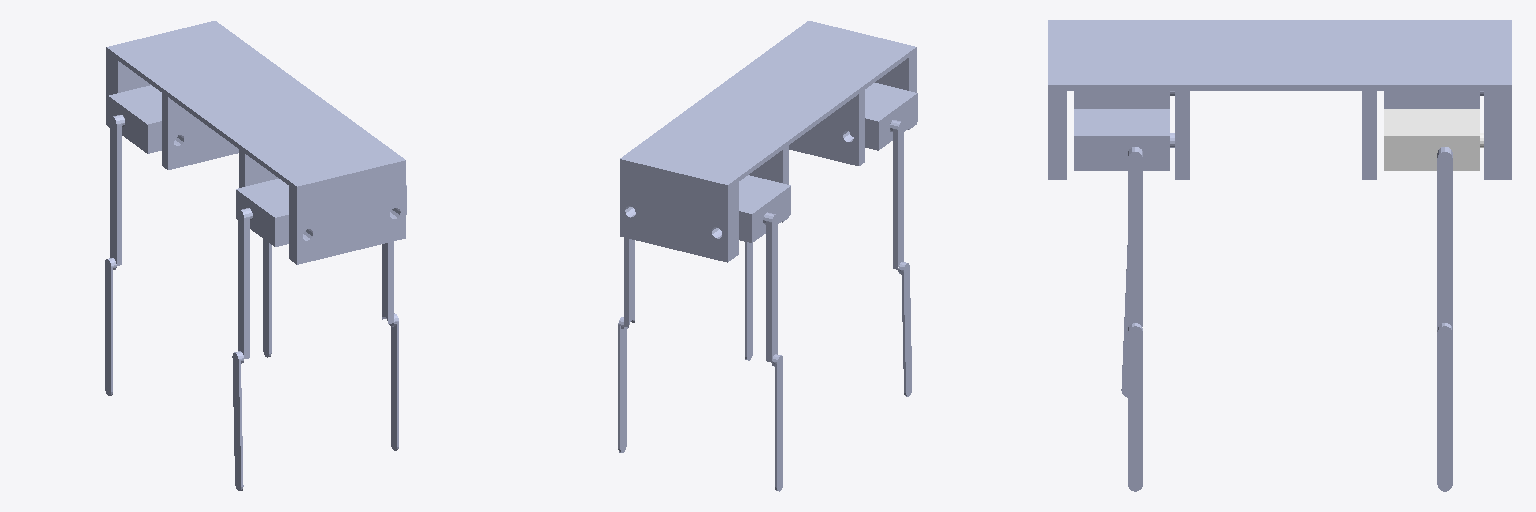
robot.urdf — assem_urdf.SLDASM:
<?xml version="1.0" encoding="utf-8"?>
<!-- This URDF was automatically created by SolidWorks to URDF Exporter! Originally created by [author] ([email redacted]) 
     Commit Version: 1.6.0-1-g15f4949  Build Version: 1.6.7594.29634
     For more information, please see http://wiki.ros.org/sw_urdf_exporter -->
<robot
  name="assem_urdf.SLDASM">
  <link
    name="base_link">
    <inertial>
      <origin
        xyz="3.9509E-17 0.16127 0.0079243"
        rpy="0 0 0" />
      <mass
        value="0.4453" />
      <inertia
        ixx="0.0055803"
        ixy="1.2165E-18"
        ixz="-4.5088E-20"
        iyy="0.00058228"
        iyz="4.2851E-05"
        izz="0.005728" />
    </inertial>
    <visual>
      <origin
        xyz="0 0 0"
        rpy="0 0 0" />
      <geometry>
        <mesh
          filename="package://assem_urdf.SLDASM/meshes/base_link.STL" />
      </geometry>
      <material
        name="">
        <color
          rgba="0.79216 0.81961 0.93333 1" />
      </material>
    </visual>
    <collision>
      <origin
        xyz="0 0 0"
        rpy="0 0 0" />
      <geometry>
        <mesh
          filename="package://assem_urdf.SLDASM/meshes/base_link.STL" />
      </geometry>
    </collision>
  </link>
  <link
    name="FR_Hip0_link">
    <inertial>
      <origin
        xyz="-0.00060544 6.9389E-18 -0.034287"
        rpy="0 0 0" />
      <mass
        value="0.067785" />
      <inertia
        ixx="2.6247E-05"
        ixy="-4.0036E-22"
        ixz="5.961E-08"
        iyy="3.2333E-05"
        iyz="2.7045E-21"
        izz="1.3621E-05" />
    </inertial>
    <visual>
      <origin
        xyz="0 0 0"
        rpy="0 0 0" />
      <geometry>
        <mesh
          filename="package://assem_urdf.SLDASM/meshes/FR_Hip0_link.STL" />
      </geometry>
      <material
        name="">
        <color
          rgba="0.79216 0.81961 0.93333 1" />
      </material>
    </visual>
    <collision>
      <origin
        xyz="0 0 0"
        rpy="0 0 0" />
      <geometry>
        <mesh
          filename="package://assem_urdf.SLDASM/meshes/FR_Hip0_link.STL" />
      </geometry>
    </collision>
  </link>
  <joint
    name="FR_Hip0_joint"
    type="revolute">
    <origin
      xyz="-0.04 0.0825 -0.01025"
      rpy="1.5708 0 -3.1416" />
    <parent
      link="base_link" />
    <child
      link="FR_Hip0_link" />
    <axis
      xyz="0 0 1" />
    <limit
      lower="0"
      upper="0"
      effort="0"
      velocity="0" />
  </joint>
  <link
    name="FR_Hip1_link">
    <inertial>
      <origin
        xyz="-0.10072 0.02657 -0.018148"
        rpy="0 0 0" />
      <mass
        value="0.0064106" />
      <inertia
        ixx="1.1008E-06"
        ixy="1.0884E-06"
        ixz="-2.5725E-06"
        iyy="8.476E-06"
        iyz="3.699E-07"
        izz="7.7954E-06" />
    </inertial>
    <visual>
      <origin
        xyz="0 0 0"
        rpy="0 0 0" />
      <geometry>
        <mesh
          filename="package://assem_urdf.SLDASM/meshes/FR_Hip1_link.STL" />
      </geometry>
      <material
        name="">
        <color
          rgba="0.79216 0.81961 0.93333 1" />
      </material>
    </visual>
    <collision>
      <origin
        xyz="0 0 0"
        rpy="0 0 0" />
      <geometry>
        <mesh
          filename="package://assem_urdf.SLDASM/meshes/FR_Hip1_link.STL" />
      </geometry>
    </collision>
  </link>
  <joint
    name="FR_Hip1_joint"
    type="revolute">
    <origin
      xyz="0.01 0.048079 -0.038176"
      rpy="1.526 -0.12836 1.9075" />
    <parent
      link="FR_Hip0_link" />
    <child
      link="FR_Hip1_link" />
    <axis
      xyz="0.32763 0 -0.94481" />
    <limit
      lower="0"
      upper="0"
      effort="0"
      velocity="0" />
  </joint>
  <link
    name="FR_Hip2_link">
    <inertial>
      <origin
        xyz="0.0055236 -0.049448 0.0037719"
        rpy="0 0 0" />
      <mass
        value="0.0025827" />
      <inertia
        ixx="3.3013E-06"
        ixy="3.662E-07"
        ixz="-3.2537E-09"
        iyy="6.3909E-08"
        iyz="2.9127E-08"
        izz="3.3606E-06" />
    </inertial>
    <visual>
      <origin
        xyz="0 0 0"
        rpy="0 0 0" />
      <geometry>
        <mesh
          filename="package://assem_urdf.SLDASM/meshes/FR_Hip2_link.STL" />
      </geometry>
      <material
        name="">
        <color
          rgba="0.79216 0.81961 0.93333 1" />
      </material>
    </visual>
    <collision>
      <origin
        xyz="0 0 0"
        rpy="0 0 0" />
      <geometry>
        <mesh
          filename="package://assem_urdf.SLDASM/meshes/FR_Hip2_link.STL" />
      </geometry>
    </collision>
  </link>
  <joint
    name="FR_Hip2_joint"
    type="revolute">
    <origin
      xyz="-0.16506 0.035756 -0.037656"
      rpy="0.32702 0.068144 -1.7689" />
    <parent
      link="FR_Hip1_link" />
    <child
      link="FR_Hip2_link" />
    <axis
      xyz="0 0 -1" />
    <limit
      lower="0"
      upper="0"
      effort="0"
      velocity="0" />
  </joint>
  <link
    name="FL_Hip3_link">
    <inertial>
      <origin
        xyz="-0.00060544 5.2042E-18 -0.034287"
        rpy="0 0 0" />
      <mass
        value="0.067785" />
      <inertia
        ixx="2.6247E-05"
        ixy="-1.6025E-22"
        ixz="5.961E-08"
        iyy="3.2333E-05"
        iyz="-6.233E-22"
        izz="1.3621E-05" />
    </inertial>
    <visual>
      <origin
        xyz="0 0 0"
        rpy="0 0 0" />
      <geometry>
        <mesh
          filename="package://assem_urdf.SLDASM/meshes/FL_Hip3_link.STL" />
      </geometry>
      <material
        name="">
        <color
          rgba="0.79216 0.81961 0.93333 1" />
      </material>
    </visual>
    <collision>
      <origin
        xyz="0 0 0"
        rpy="0 0 0" />
      <geometry>
        <mesh
          filename="package://assem_urdf.SLDASM/meshes/FL_Hip3_link.STL" />
      </geometry>
    </collision>
  </link>
  <joint
    name="FL_Hip3_joint"
    type="revolute">
    <origin
      xyz="0.04 0.0825 -0.01025"
      rpy="-1.5708 0 0" />
    <parent
      link="base_link" />
    <child
      link="FL_Hip3_link" />
    <axis
      xyz="0 0 1" />
    <limit
      lower="0"
      upper="0"
      effort="0"
      velocity="0" />
  </joint>
  <link
    name="FL_Hip4_link">
    <inertial>
      <origin
        xyz="0.041114 0.020928 -0.0077205"
        rpy="0 0 0" />
      <mass
        value="0.0064106" />
      <inertia
        ixx="1.8319E-06"
        ixy="-3.4621E-06"
        ixz="4.6782E-08"
        iyy="6.8709E-06"
        iyz="2.3813E-08"
        izz="8.6695E-06" />
    </inertial>
    <visual>
      <origin
        xyz="0 0 0"
        rpy="0 0 0" />
      <geometry>
        <mesh
          filename="package://assem_urdf.SLDASM/meshes/FL_Hip4_link.STL" />
      </geometry>
      <material
        name="">
        <color
          rgba="0.79216 0.81961 0.93333 1" />
      </material>
    </visual>
    <collision>
      <origin
        xyz="0 0 0"
        rpy="0 0 0" />
      <geometry>
        <mesh
          filename="package://assem_urdf.SLDASM/meshes/FL_Hip4_link.STL" />
      </geometry>
    </collision>
  </link>
  <joint
    name="FL_Hip4_joint"
    type="revolute">
    <origin
      xyz="0.018132 0.0095637 -0.02555"
      rpy="-1.5708 -0.47085 1.5708" />
    <parent
      link="FL_Hip3_link" />
    <child
      link="FL_Hip4_link" />
    <axis
      xyz="0 0 1" />
    <limit
      lower="0"
      upper="0"
      effort="0"
      velocity="0" />
  </joint>
  <link
    name="FL_Hip5_link">
    <inertial>
      <origin
        xyz="0 -0.049755 -0.0037719"
        rpy="0 0 0" />
      <mass
        value="0.0025827" />
      <inertia
        ixx="3.3422E-06"
        ixy="-1.3183E-22"
        ixz="-1.7916E-24"
        iyy="2.3002E-08"
        iyz="-2.9308E-08"
        izz="3.3606E-06" />
    </inertial>
    <visual>
      <origin
        xyz="0 0 0"
        rpy="0 0 0" />
      <geometry>
        <mesh
          filename="package://assem_urdf.SLDASM/meshes/FL_Hip5_link.STL" />
      </geometry>
      <material
        name="">
        <color
          rgba="0.79216 0.81961 0.93333 1" />
      </material>
    </visual>
    <collision>
      <origin
        xyz="0 0 0"
        rpy="0 0 0" />
      <geometry>
        <mesh
          filename="package://assem_urdf.SLDASM/meshes/FL_Hip5_link.STL" />
      </geometry>
    </collision>
  </link>
  <joint
    name="FL_Hip5_joint"
    type="revolute">
    <origin
      xyz="0.10154 0.051686 -0.010368"
      rpy="0 0 2.0416" />
    <parent
      link="FL_Hip4_link" />
    <child
      link="FL_Hip5_link" />
    <axis
      xyz="0 0 1" />
    <limit
      lower="0"
      upper="0"
      effort="0"
      velocity="0" />
  </joint>
  <link
    name="RR_Hip6_link">
    <inertial>
      <origin
        xyz="-0.00060544 1.2143E-17 -0.034287"
        rpy="0 0 0" />
      <mass
        value="0.067785" />
      <inertia
        ixx="2.6247E-05"
        ixy="7.5985E-23"
        ixz="5.961E-08"
        iyy="3.2333E-05"
        iyz="3.1781E-22"
        izz="1.3621E-05" />
    </inertial>
    <visual>
      <origin
        xyz="0 0 0"
        rpy="0 0 0" />
      <geometry>
        <mesh
          filename="package://assem_urdf.SLDASM/meshes/RR_Hip6_link.STL" />
      </geometry>
      <material
        name="">
        <color
          rgba="0.79216 0.81961 0.93333 1" />
      </material>
    </visual>
    <collision>
      <origin
        xyz="0 0 0"
        rpy="0 0 0" />
      <geometry>
        <mesh
          filename="package://assem_urdf.SLDASM/meshes/RR_Hip6_link.STL" />
      </geometry>
    </collision>
  </link>
  <joint
    name="RR_Hip6_joint"
    type="revolute">
    <origin
      xyz="-0.04 0.285 -0.01025"
      rpy="1.5708 0 3.1416" />
    <parent
      link="base_link" />
    <child
      link="RR_Hip6_link" />
    <axis
      xyz="0 0 1" />
    <limit
      lower="0"
      upper="0"
      effort="0"
      velocity="0" />
  </joint>
  <link
    name="RR_Hip7_link">
    <inertial>
      <origin
        xyz="0.034716961087133 0.0330827435607052 0.00118351028798536"
        rpy="0 0 0" />
      <mass
        value="0.00641061944901924" />
      <inertia
        ixx="6.02291683364987E-06"
        ixy="-3.9420806956738E-06"
        ixz="-2.898185097182E-08"
        iyy="2.679914803784E-06"
        iyz="-4.37682660936721E-08"
        izz="8.66948634202206E-06" />
    </inertial>
    <visual>
      <origin
        xyz="0 0 0"
        rpy="0 0 0" />
      <geometry>
        <mesh
          filename="package://assem_urdf.SLDASM/meshes/RR_Hip7_link.STL" />
      </geometry>
      <material
        name="">
        <color
          rgba="0.792156862745098 0.819607843137255 0.933333333333333 1" />
      </material>
    </visual>
    <collision>
      <origin
        xyz="0 0 0"
        rpy="0 0 0" />
      <geometry>
        <mesh
          filename="package://assem_urdf.SLDASM/meshes/RR_Hip7_link.STL" />
      </geometry>
    </collision>
  </link>
  <joint
    name="RR_Hip7_joint"
    type="revolute">
    <origin
      xyz="0.024669 -0.0089469 -0.036231"
      rpy="-1.5708 -0.98592 -1.5708" />
    <parent
      link="RR_Hip6_link" />
    <child
      link="RR_Hip7_link" />
    <axis
      xyz="0 0 -1" />
    <limit
      lower="0"
      upper="0"
      effort="0"
      velocity="0" />
  </joint>
  <link
    name="RR_Hip8_link">
    <inertial>
      <origin
        xyz="0.0046193 -0.04954 0.0037719"
        rpy="0 0 0" />
      <mass
        value="0.0025827" />
      <inertia
        ixx="3.3136E-06"
        ixy="3.0682E-07"
        ixz="-2.721E-09"
        iyy="5.1611E-08"
        iyz="2.9182E-08"
        izz="3.3606E-06" />
    </inertial>
    <visual>
      <origin
        xyz="0 0 0"
        rpy="0 0 0" />
      <geometry>
        <mesh
          filename="package://assem_urdf.SLDASM/meshes/RR_Hip8_link.STL" />
      </geometry>
      <material
        name="">
        <color
          rgba="0.79216 0.81961 0.93333 1" />
      </material>
    </visual>
    <collision>
      <origin
        xyz="0 0 0"
        rpy="0 0 0" />
      <geometry>
        <mesh
          filename="package://assem_urdf.SLDASM/meshes/RR_Hip8_link.STL" />
      </geometry>
    </collision>
  </link>
  <joint
    name="RR_Hip8_joint"
    type="revolute">
    <origin
      xyz="0.072151 0.089615 0.0038305"
      rpy="0 0 2.4637" />
    <parent
      link="RR_Hip7_link" />
    <child
      link="RR_Hip8_link" />
    <axis
      xyz="0 0 -1" />
    <limit
      lower="0"
      upper="0"
      effort="0"
      velocity="0" />
  </joint>
  <link
    name="RL_Hip9_link">
    <inertial>
      <origin
        xyz="0 0 0"
        rpy="0 0 0" />
      <mass
        value="0" />
      <inertia
        ixx="0"
        ixy="0"
        ixz="0"
        iyy="0"
        iyz="0"
        izz="0" />
    </inertial>
    <visual>
      <origin
        xyz="0 0 0"
        rpy="0 0 0" />
      <geometry>
        <mesh
          filename="package://assem_urdf.SLDASM/meshes/RL_Hip9_link.STL" />
      </geometry>
      <material
        name="">
        <color
          rgba="1 1 1 1" />
      </material>
    </visual>
    <collision>
      <origin
        xyz="0 0 0"
        rpy="0 0 0" />
      <geometry>
        <mesh
          filename="package://assem_urdf.SLDASM/meshes/RL_Hip9_link.STL" />
      </geometry>
    </collision>
  </link>
  <joint
    name="RL_Hip9_joint"
    type="revolute">
    <origin
      xyz="0.04 0.285 -0.01025"
      rpy="-1.5708 0 0" />
    <parent
      link="base_link" />
    <child
      link="RL_Hip9_link" />
    <axis
      xyz="0 0 1" />
    <limit
      lower="0"
      upper="0"
      effort="0"
      velocity="0" />
  </joint>
  <link
    name="RL_Hip10_link">
    <inertial>
      <origin
        xyz="0.041114 0.020928 -0.0077205"
        rpy="0 0 0" />
      <mass
        value="0.0064106" />
      <inertia
        ixx="1.8319E-06"
        ixy="-3.4621E-06"
        ixz="4.6782E-08"
        iyy="6.8709E-06"
        iyz="2.3813E-08"
        izz="8.6695E-06" />
    </inertial>
    <visual>
      <origin
        xyz="0 0 0"
        rpy="0 0 0" />
      <geometry>
        <mesh
          filename="package://assem_urdf.SLDASM/meshes/RL_Hip10_link.STL" />
      </geometry>
      <material
        name="">
        <color
          rgba="0.79216 0.81961 0.93333 1" />
      </material>
    </visual>
    <collision>
      <origin
        xyz="0 0 0"
        rpy="0 0 0" />
      <geometry>
        <mesh
          filename="package://assem_urdf.SLDASM/meshes/RL_Hip10_link.STL" />
      </geometry>
    </collision>
  </link>
  <joint
    name="RL_Hip10_joint"
    type="continuous">
    <origin
      xyz="0.018132 0.0095637 -0.02555"
      rpy="-1.5708 -0.47085 1.5708" />
    <parent
      link="RL_Hip9_link" />
    <child
      link="RL_Hip10_link" />
    <axis
      xyz="0 0 1" />
  </joint>
  <link
    name="RL_Hip11_link">
    <inertial>
      <origin
        xyz="-1.1102E-16 -0.049755 -0.0037719"
        rpy="0 0 0" />
      <mass
        value="0.0025827" />
      <inertia
        ixx="3.3422E-06"
        ixy="-6.2995E-21"
        ixz="-5.6744E-23"
        iyy="2.3002E-08"
        iyz="-2.9308E-08"
        izz="3.3606E-06" />
    </inertial>
    <visual>
      <origin
        xyz="0 0 0"
        rpy="0 0 0" />
      <geometry>
        <mesh
          filename="package://assem_urdf.SLDASM/meshes/RL_Hip11_link.STL" />
      </geometry>
      <material
        name="">
        <color
          rgba="0.79216 0.81961 0.93333 1" />
      </material>
    </visual>
    <collision>
      <origin
        xyz="0 0 0"
        rpy="0 0 0" />
      <geometry>
        <mesh
          filename="package://assem_urdf.SLDASM/meshes/RL_Hip11_link.STL" />
      </geometry>
    </collision>
  </link>
  <joint
    name="RL_Hip11_joint"
    type="revolute">
    <origin
      xyz="0.10154 0.051686 -0.010368"
      rpy="0 0 2.0416" />
    <parent
      link="RL_Hip10_link" />
    <child
      link="RL_Hip11_link" />
    <axis
      xyz="0 0 1" />
    <limit
      lower="0"
      upper="0"
      effort="0"
      velocity="0" />
  </joint>
</robot>

--- What the picture shows (computed from the rendered views, not written in the file) ---
3 views of the same robot in one strip: view 1: azimuth 30°, elevation 25°; view 2: azimuth 150°, elevation 25°; view 3: azimuth 270°, elevation 25° (orthographic).
Robot: assem_urdf.SLDASM — 13 links, 12 joints (11 revolute, 1 continuous); root link base_link; default pose: every joint at zero.
Visible links, largest first — view 1: base_link, RR_Hip6_link, FR_Hip0_link, FR_Hip1_link, RR_Hip7_link, FR_Hip2_link, RR_Hip8_link, FL_Hip5_link, RL_Hip11_link, FL_Hip4_link; view 2: base_link, FR_Hip0_link, RR_Hip6_link, RR_Hip7_link, FR_Hip1_link, RL_Hip11_link, FR_Hip2_link, RR_Hip8_link, RL_Hip10_link, FL_Hip5_link; view 3: base_link, FL_Hip3_link, RL_Hip9_link, RL_Hip10_link, FL_Hip4_link, RL_Hip11_link, FL_Hip5_link, FR_Hip0_link, RR_Hip6_link, FR_Hip2_link.
Boxes of the visible links, x1=… form: base_link: x1=106, y1=21, x2=405, y2=264; RR_Hip6_link: x1=108, y1=85, x2=177, y2=153; FR_Hip0_link: x1=236, y1=179, x2=288, y2=246; FR_Hip1_link: x1=238, y1=208, x2=252, y2=358; RR_Hip7_link: x1=110, y1=115, x2=124, y2=265; FR_Hip2_link: x1=232, y1=351, x2=243, y2=490; RR_Hip8_link: x1=105, y1=258, x2=116, y2=395; FL_Hip5_link: x1=389, y1=313, x2=398, y2=450; RL_Hip11_link: x1=263, y1=239, x2=271, y2=357; FL_Hip4_link: x1=382, y1=241, x2=393, y2=323; base_link: x1=620, y1=21, x2=916, y2=262; FR_Hip0_link: x1=850, y1=83, x2=917, y2=150; RR_Hip6_link: x1=739, y1=175, x2=790, y2=242; RR_Hip7_link: x1=763, y1=212, x2=777, y2=362; FR_Hip1_link: x1=890, y1=120, x2=903, y2=269; RL_Hip11_link: x1=618, y1=317, x2=627, y2=452; FR_Hip2_link: x1=898, y1=262, x2=911, y2=396; RR_Hip8_link: x1=772, y1=354, x2=782, y2=491; RL_Hip10_link: x1=624, y1=238, x2=634, y2=327; FL_Hip5_link: x1=745, y1=242, x2=752, y2=360; base_link: x1=1048, y1=20, x2=1511, y2=179; FL_Hip3_link: x1=1074, y1=109, x2=1174, y2=170; RL_Hip9_link: x1=1384, y1=109, x2=1483, y2=170; RL_Hip10_link: x1=1437, y1=147, x2=1452, y2=328; FL_Hip4_link: x1=1128, y1=147, x2=1142, y2=326; RL_Hip11_link: x1=1437, y1=323, x2=1452, y2=491; FL_Hip5_link: x1=1128, y1=323, x2=1142, y2=491; FR_Hip0_link: x1=1074, y1=91, x2=1174, y2=108; RR_Hip6_link: x1=1384, y1=91, x2=1483, y2=108; FR_Hip2_link: x1=1121, y1=245, x2=1127, y2=397.
Bounding box of the posed robot: 0.147 × 0.303 × 0.2824 m (x, y, z).
Meshes: 13 distinct files referenced, 13 mesh visuals loaded (13 binary STL).